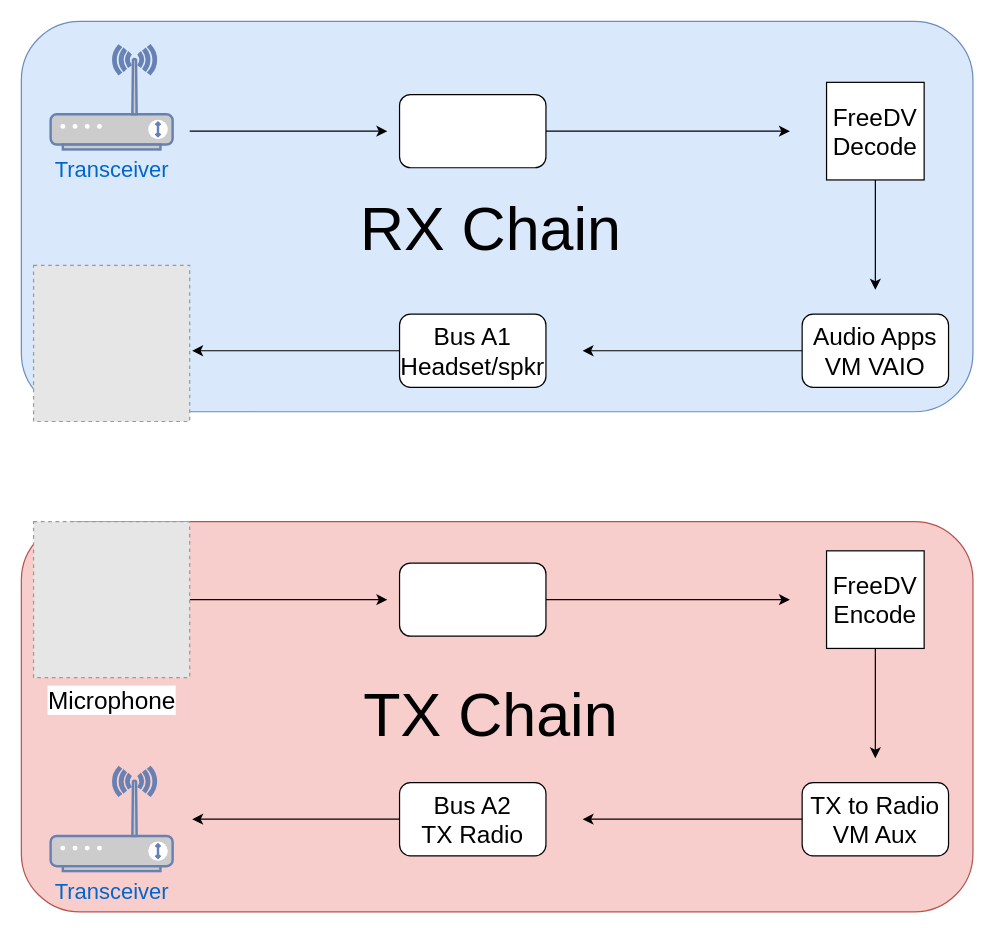
The diagram is 994 pixels wide and 933 high, and some of its shapes have lost their labels. Grey dashed boxes stand in for pictures. Here are the shapes that lost their labels. From the top down, the centre of each, then its label:
At point (472, 130): "BUS B2 Radio Sink".
At point (472, 599): "BUS B1 Gen Sink".
